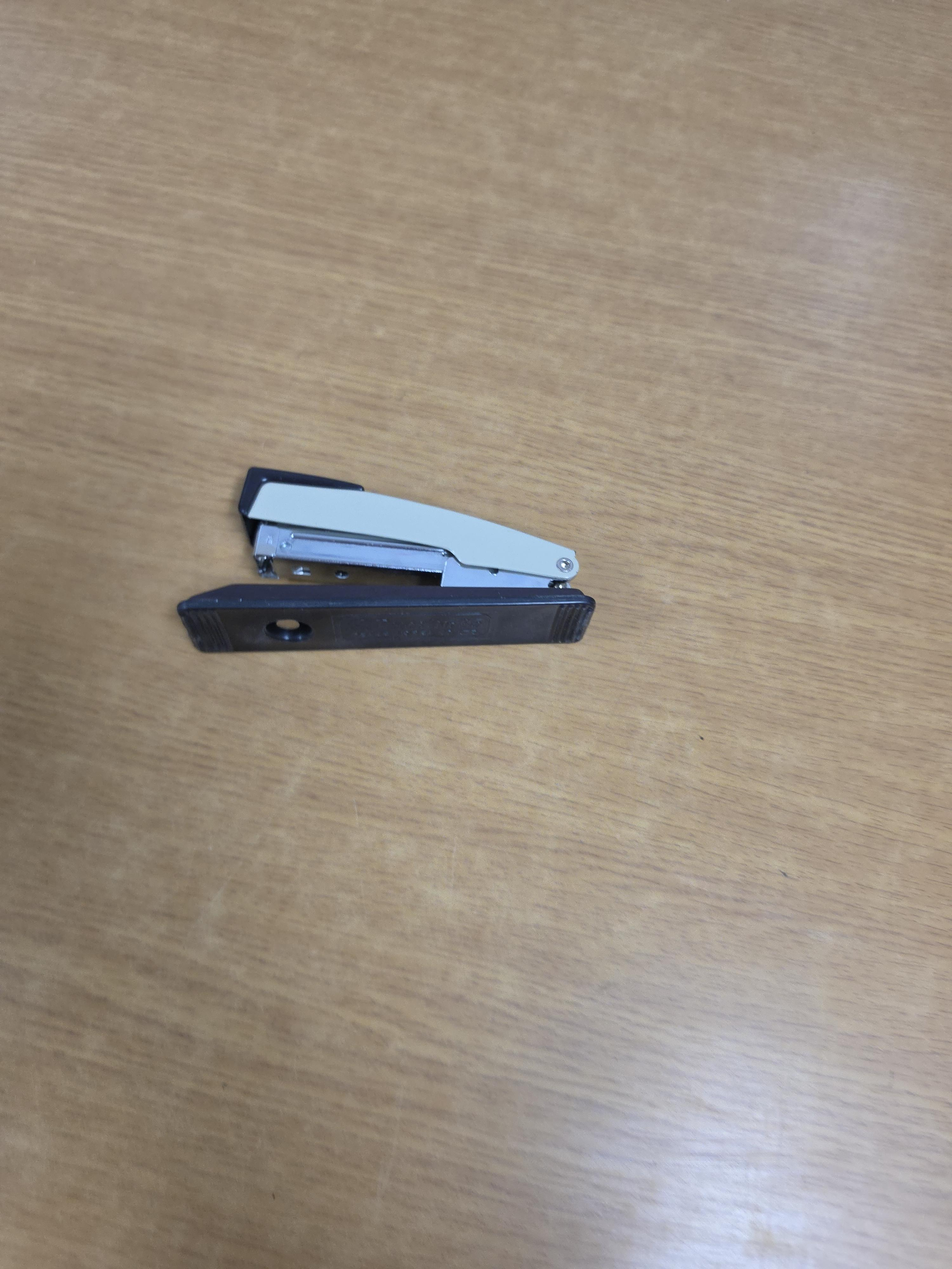stapler: (177, 466, 597, 653)
